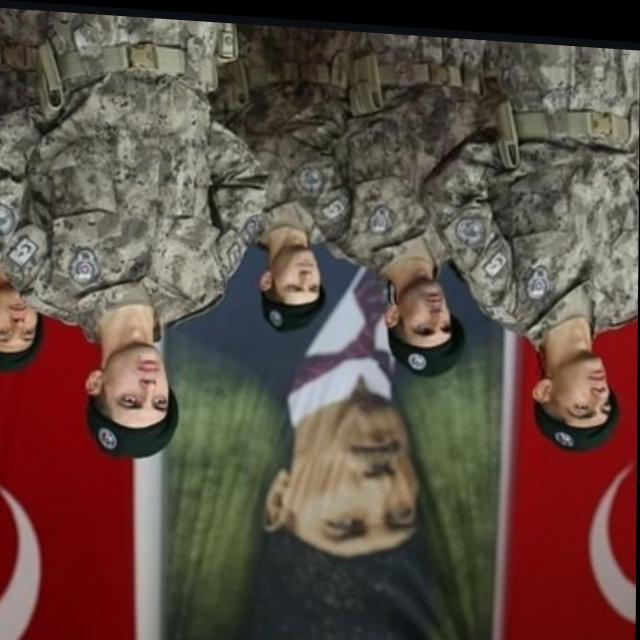poh_personel: (0, 9, 268, 468), (422, 29, 639, 449), (279, 25, 470, 374)
